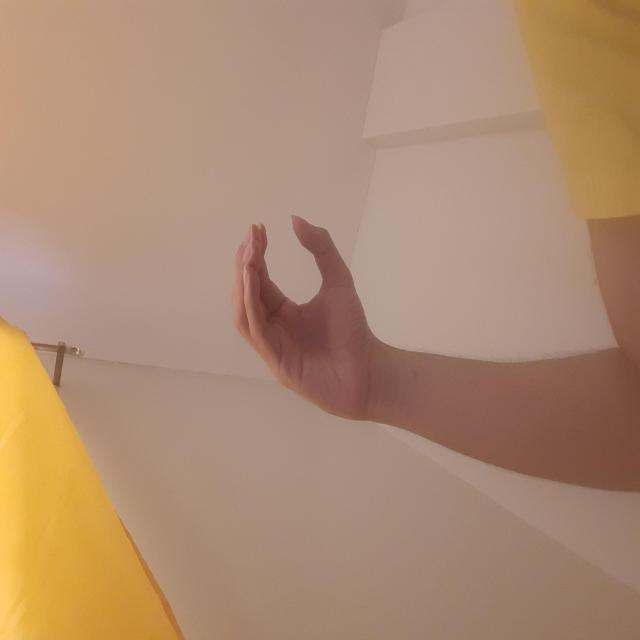C: (218, 232, 425, 369)
